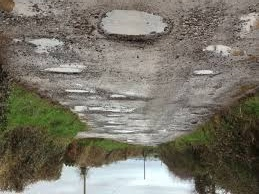pothole: (94, 8, 179, 43), (1, 0, 61, 26), (199, 47, 257, 63), (24, 35, 65, 54), (236, 6, 257, 38), (43, 64, 87, 74), (72, 106, 121, 114), (192, 66, 220, 79), (108, 94, 139, 104), (64, 87, 94, 95), (112, 127, 136, 134), (187, 103, 215, 108), (105, 113, 122, 118), (191, 111, 208, 116)
